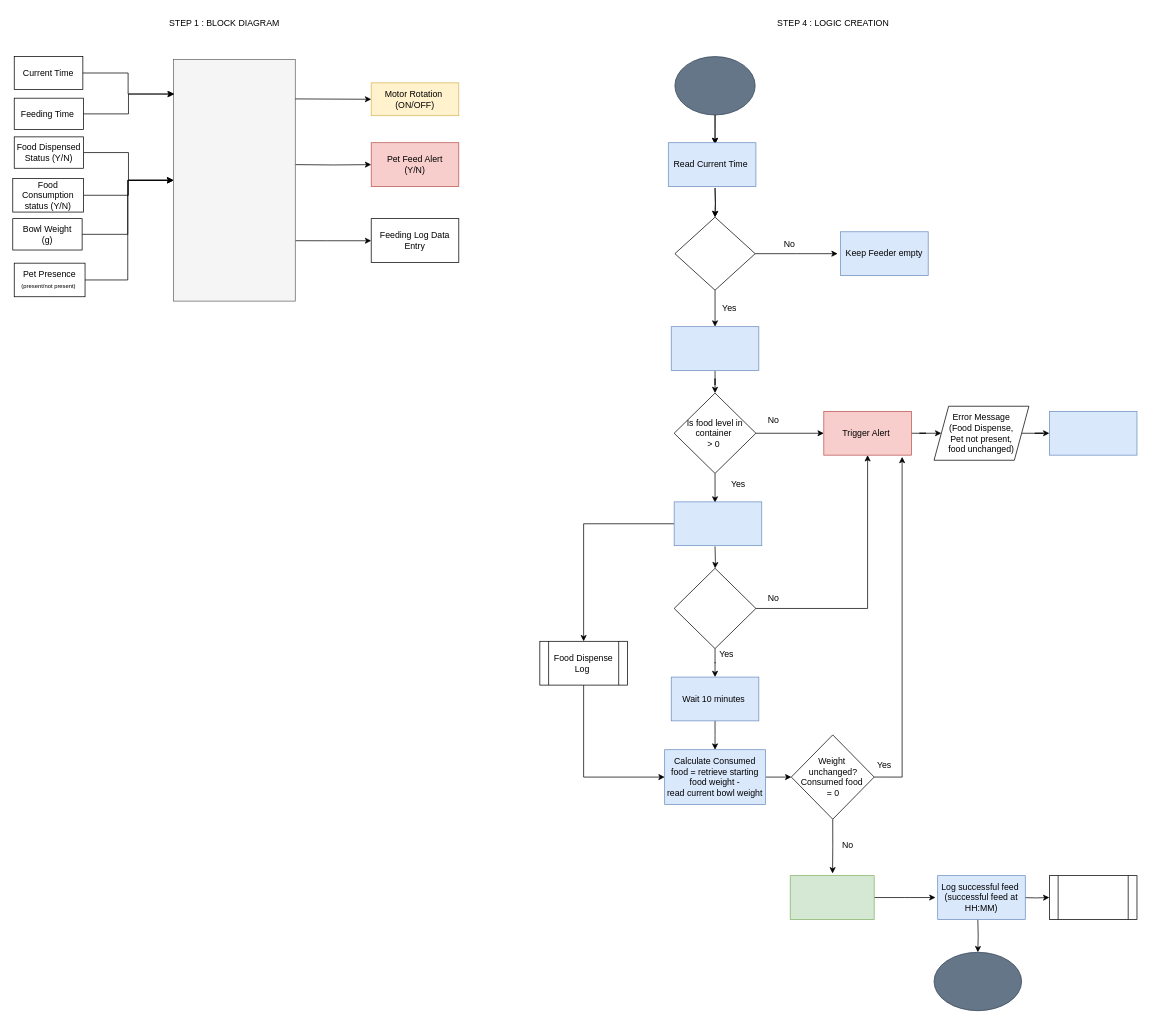
This 1150x1023 diagram has some shape labels left out. Each missing label, with the centre of its shape:
"Automated Pet Feeder Logic" belongs at point (234, 180).
"Display green alert" belongs at point (831, 897).
"End" belongs at point (977, 981).
"Is it 8:00AM or 6:00PM?" belongs at point (714, 253).
"Is pet currently present?" belongs at point (714, 608).
"Rotate server to dispense food (cat/dog food depending on feeder)" belongs at point (715, 348).
"Send message to staff" belongs at point (1093, 433).
"Start" belongs at point (714, 85).
"Store food level and bowl weight" belongs at point (717, 523).
"Successful food consumption log (HH:MM & food consumed)" belongs at point (1093, 897).
